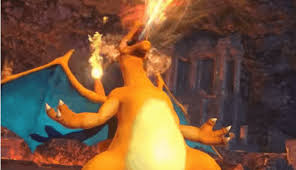charizard: (1, 19, 237, 169)
